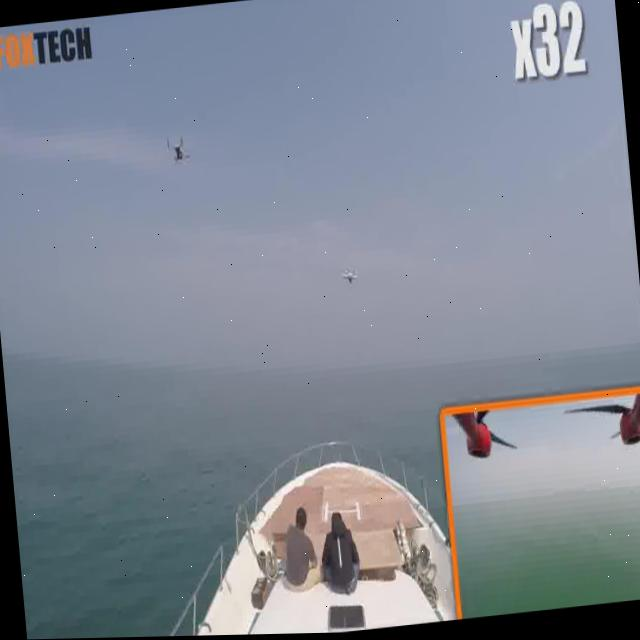drone: (162, 129, 196, 173), (335, 256, 363, 291)
